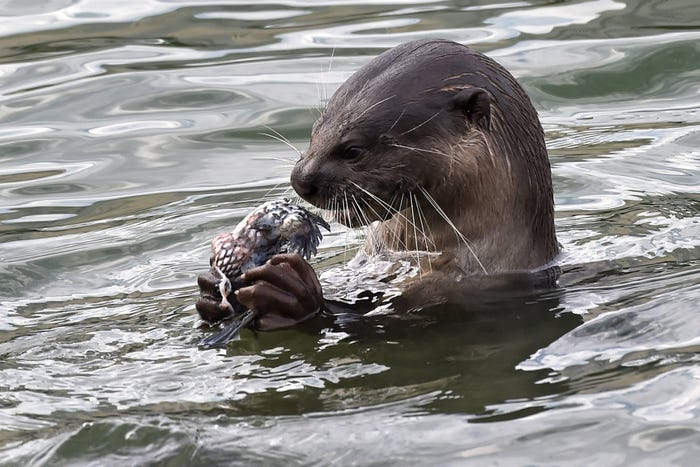otter: (195, 27, 563, 336)
